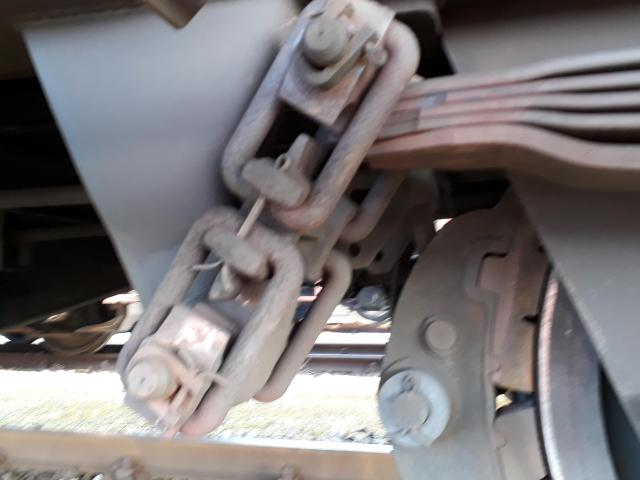blattfederww: (324, 66, 640, 187)
